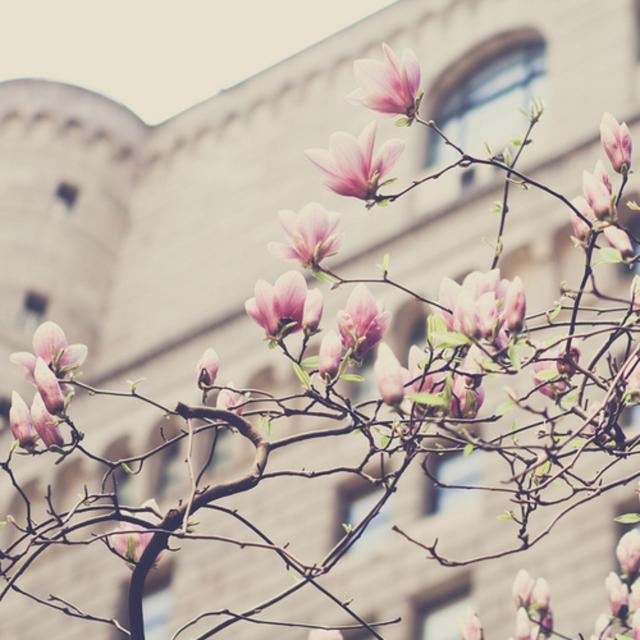Flower: (302, 115, 406, 199), (344, 37, 422, 125), (437, 255, 525, 333), (247, 263, 323, 347), (8, 317, 90, 393), (264, 196, 342, 264), (91, 502, 165, 568), (336, 278, 392, 352), (405, 346, 451, 402), (33, 393, 66, 453), (528, 348, 562, 404), (603, 110, 631, 176), (372, 343, 402, 401), (610, 530, 638, 582), (5, 394, 33, 444), (598, 222, 634, 260), (580, 169, 608, 215), (456, 366, 480, 416), (570, 195, 598, 237), (604, 568, 624, 616), (214, 382, 244, 412), (506, 568, 528, 608), (312, 345, 341, 375), (558, 338, 578, 374), (198, 346, 216, 384), (529, 575, 549, 609), (464, 606, 484, 638), (310, 622, 344, 638), (589, 614, 609, 638), (511, 612, 527, 638), (546, 611, 554, 637), (628, 582, 638, 602), (630, 609, 638, 633)
